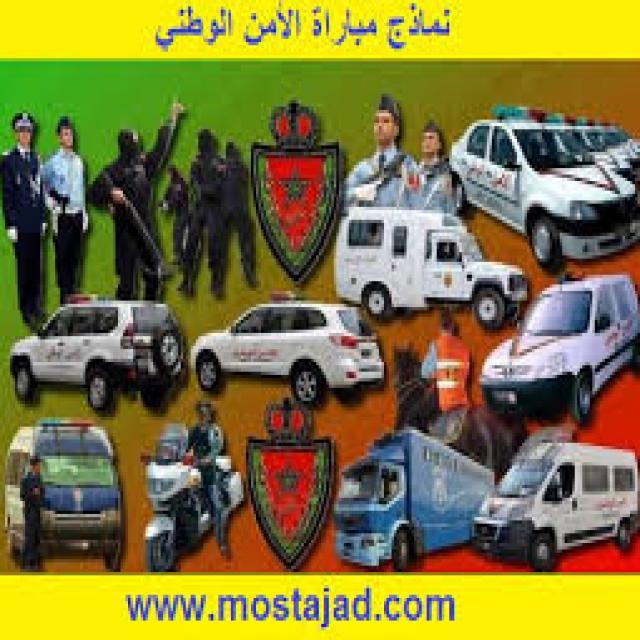police: (446, 90, 640, 271), (478, 282, 640, 444), (188, 302, 389, 405), (10, 296, 184, 414), (481, 447, 638, 569)
